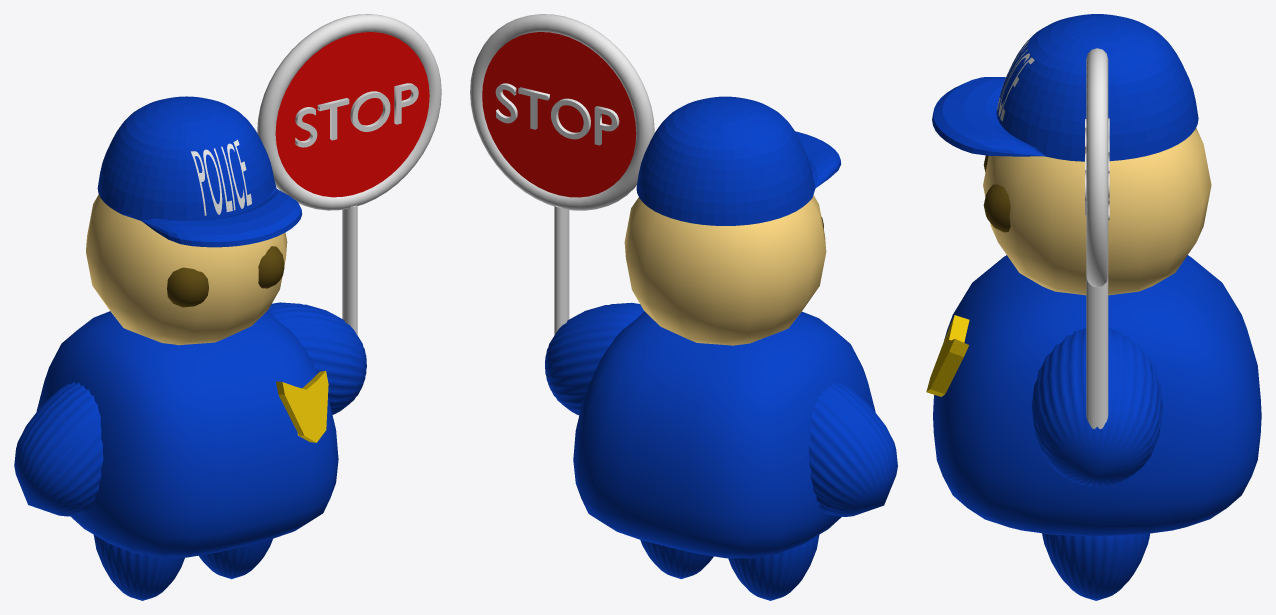
File: Police.fbx
The picture shows the model from 3 angles, left to right: view 1: azimuth 30°, elevation 25°; view 2: azimuth 150°, elevation 25°; view 3: azimuth 270°, elevation 25°; orthographic projection. The views are drawn at different scales.
Parts seen in each view (by area): view 1: Body, Hat, Cylinder.001, Head, Arms, BézierCircle, Legs, Cube, Text, Eyes, Cylinder, Text.003; view 2: Body, Head, Hat, Cylinder.001, Arms, BézierCircle, Legs, Text.001, Cylinder; view 3: Body, Hat, Head, Arms, BézierCircle, Legs, Cylinder, Cube, Eyes, Text.003.
Boxes of the visible parts, left/top/right/bottom form: Body: left=36, top=311, right=338, bottom=557; Hat: left=97, top=96, right=302, bottom=247; Cylinder.001: left=275, top=32, right=429, bottom=197; Head: left=86, top=194, right=287, bottom=345; Arms: left=14, top=302, right=366, bottom=516; BézierCircle: left=257, top=14, right=441, bottom=210; Legs: left=93, top=535, right=272, bottom=600; Cube: left=276, top=370, right=328, bottom=442; Text: left=295, top=83, right=418, bottom=147; Eyes: left=167, top=246, right=284, bottom=307; Cylinder: left=342, top=205, right=357, bottom=334; Text.003: left=191, top=139, right=251, bottom=215; Body: left=573, top=311, right=875, bottom=558; Head: left=624, top=195, right=826, bottom=345; Hat: left=636, top=96, right=841, bottom=225; Cylinder.001: left=482, top=32, right=636, bottom=197; Arms: left=545, top=302, right=897, bottom=516; BézierCircle: left=470, top=14, right=654, bottom=210; Legs: left=640, top=535, right=819, bottom=600; Text.001: left=495, top=83, right=619, bottom=145; Cylinder: left=554, top=205, right=569, bottom=335; Body: left=933, top=255, right=1261, bottom=536; Hat: left=932, top=14, right=1198, bottom=161; Head: left=983, top=128, right=1211, bottom=295; Arms: left=1031, top=328, right=1162, bottom=487; BézierCircle: left=1086, top=48, right=1108, bottom=287; Legs: left=1042, top=533, right=1149, bottom=600; Cylinder: left=1086, top=277, right=1108, bottom=429; Cube: left=926, top=315, right=969, bottom=396; Eyes: left=983, top=155, right=1010, bottom=232; Text.003: left=997, top=39, right=1034, bottom=121.
Bounding box in the file's own units: 405 × 492 × 246.
